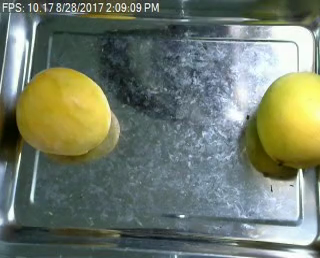Mango: (18, 65, 114, 155), (255, 70, 320, 169)
